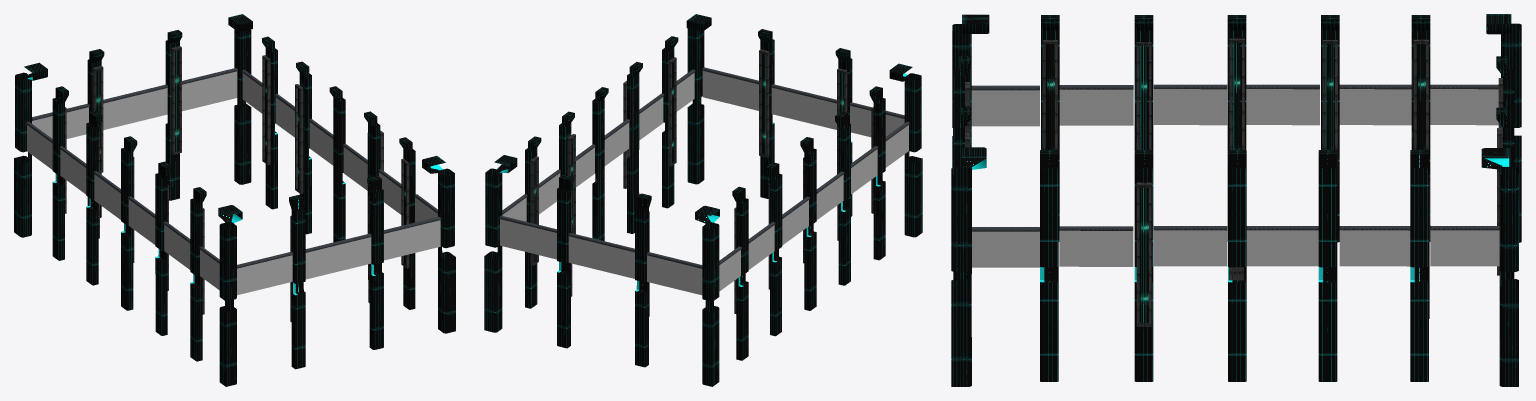
Rendered from Paaltjes.fbx.
3 renders of one model, left to right at view 1: azimuth 30°, elevation 25°; view 2: azimuth 150°, elevation 25°; view 3: azimuth 270°, elevation 25°, orthographic. The views are drawn at different scales.
Parts seen in each view (by area): view 1: polySurface149, polySurface150, polySurface139, polySurface140, polySurface142, polySurface146, polySurface71, polySurface123, polySurface127, polySurface130, polySurface148, polySurface124 (+29 smaller); view 2: polySurface139, polySurface140, polySurface149, polySurface150, polySurface133, polySurface138, polySurface71, polySurface136, polySurface130, polySurface124, polySurface123, polySurface148 (+29 smaller); view 3: polySurface150, polySurface140, polySurface164, polySurface168, polySurface171, polySurface161, polySurface121, polySurface79, polySurface156, polySurface159, polySurface126, polySurface129 (+24 smaller).
Boxes of the visible parts, x1=… form: polySurface149: x1=218, y1=205, x2=242, y2=386; polySurface150: x1=422, y1=156, x2=455, y2=333; polySurface139: x1=14, y1=62, x2=47, y2=237; polySurface140: x1=228, y1=14, x2=252, y2=184; polySurface142: x1=289, y1=195, x2=305, y2=369; polySurface146: x1=367, y1=176, x2=383, y2=349; polySurface71: x1=190, y1=187, x2=206, y2=361; polySurface123: x1=155, y1=161, x2=171, y2=335; polySurface127: x1=86, y1=111, x2=102, y2=285; polySurface130: x1=52, y1=86, x2=68, y2=260; polySurface148: x1=305, y1=233, x2=371, y2=279; polySurface124: x1=121, y1=136, x2=137, y2=310; polySurface139: x1=695, y1=205, x2=719, y2=386; polySurface140: x1=484, y1=155, x2=517, y2=332; polySurface149: x1=889, y1=63, x2=922, y2=237; polySurface150: x1=686, y1=14, x2=711, y2=184; polySurface133: x1=635, y1=193, x2=651, y2=367; polySurface138: x1=557, y1=174, x2=573, y2=348; polySurface71: x1=869, y1=86, x2=885, y2=260; polySurface136: x1=568, y1=233, x2=634, y2=278; polySurface130: x1=732, y1=186, x2=748, y2=360; polySurface124: x1=800, y1=137, x2=816, y2=310; polySurface123: x1=835, y1=112, x2=850, y2=285; polySurface148: x1=771, y1=84, x2=836, y2=129; polySurface150: x1=951, y1=147, x2=986, y2=386; polySurface140: x1=1481, y1=148, x2=1518, y2=386; polySurface164: x1=1318, y1=150, x2=1337, y2=381; polySurface168: x1=1410, y1=150, x2=1428, y2=381; polySurface171: x1=1040, y1=150, x2=1058, y2=381; polySurface161: x1=1228, y1=150, x2=1246, y2=381; polySurface121: x1=1153, y1=84, x2=1227, y2=125; polySurface79: x1=1059, y1=85, x2=1133, y2=125; polySurface156: x1=1059, y1=226, x2=1133, y2=266; polySurface159: x1=1153, y1=226, x2=1227, y2=266; polySurface126: x1=1246, y1=84, x2=1319, y2=125; polySurface129: x1=1339, y1=84, x2=1411, y2=125.
Bounding box in the file's own units: 11.77 × 8.19 × 18.77.
